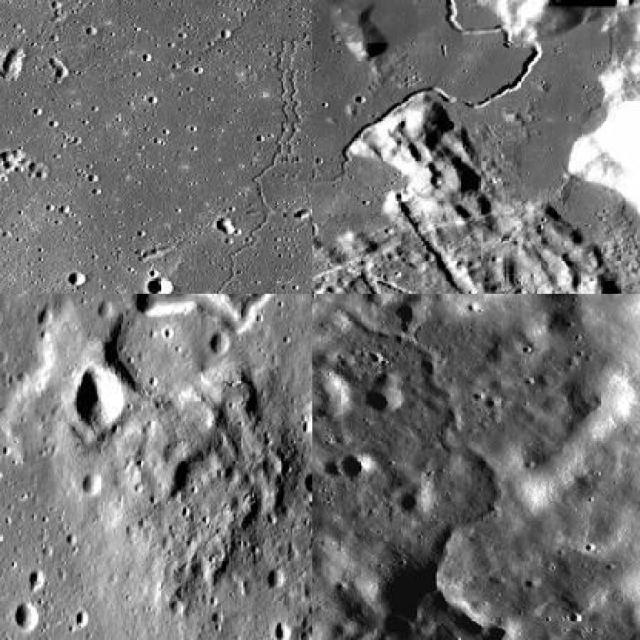rille: (312, 294, 580, 638), (19, 37, 292, 292), (312, 0, 543, 292), (131, 294, 311, 337)
